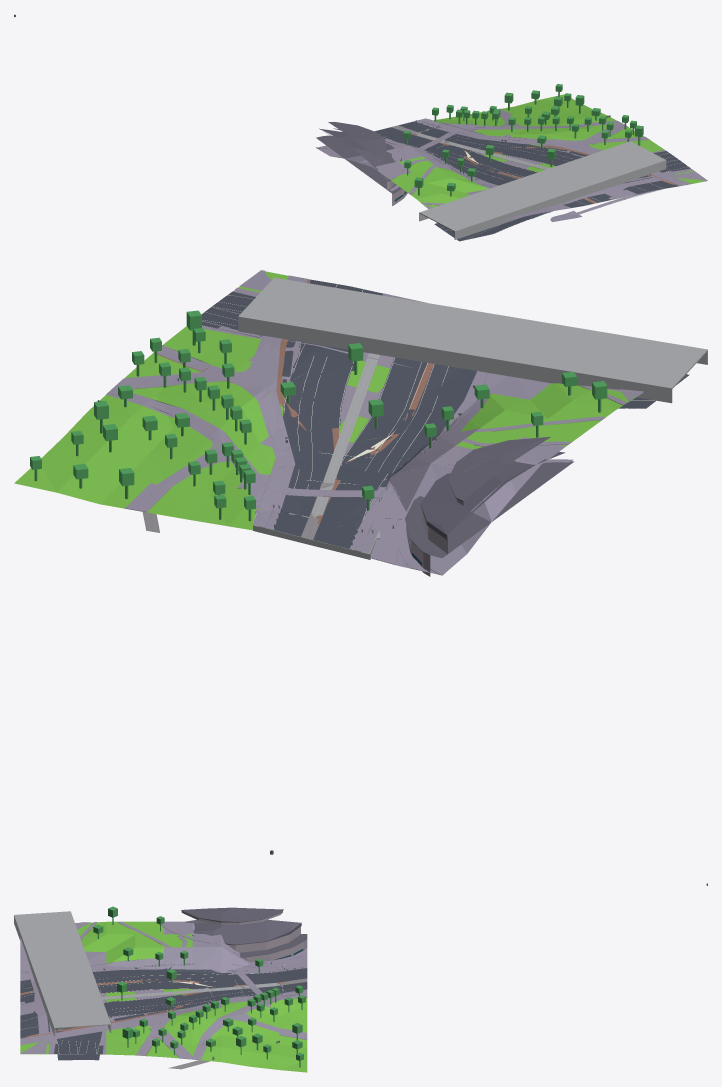
3 renders of one model, top to bottom at view 1: azimuth 30°, elevation 25°; view 2: azimuth 150°, elevation 25°; view 3: azimuth 270°, elevation 25°, orthographic. The views are drawn at different scales.
Visible parts, largest first — view 1: compiled-chunk; view 2: compiled-chunk; view 3: compiled-chunk.
Boxes of the visible parts, x1,y1,x2,y2 form: compiled-chunk: [14, 14, 707, 241]; compiled-chunk: [14, 270, 707, 854]; compiled-chunk: [14, 883, 707, 1072].
Size of the model in its own units: 169 by 25.07 by 290.
